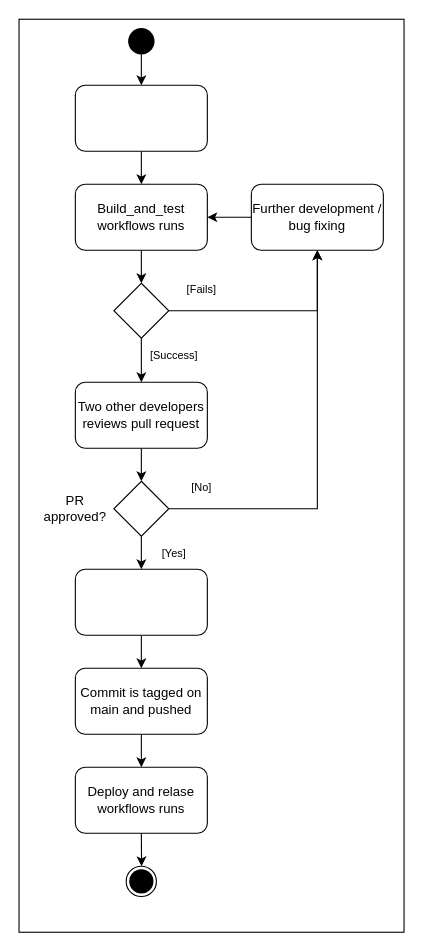
Image size: 424x952. Some labels were removed from this diagram. The shapes that lost their labels are listed below. From the top down, each one's centre as x and y in pixels, then its label:
point (140, 117): Developer raises a pull request
point (140, 601): PR is squashed and merged into main
